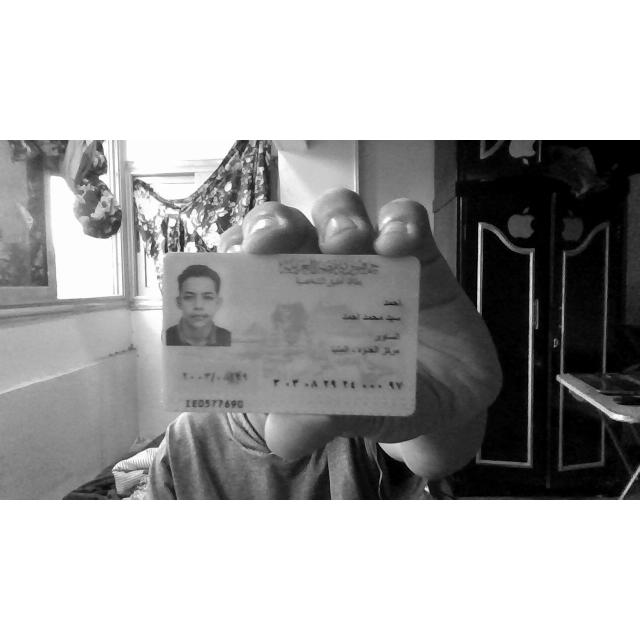id_card: (162, 253, 420, 416)
